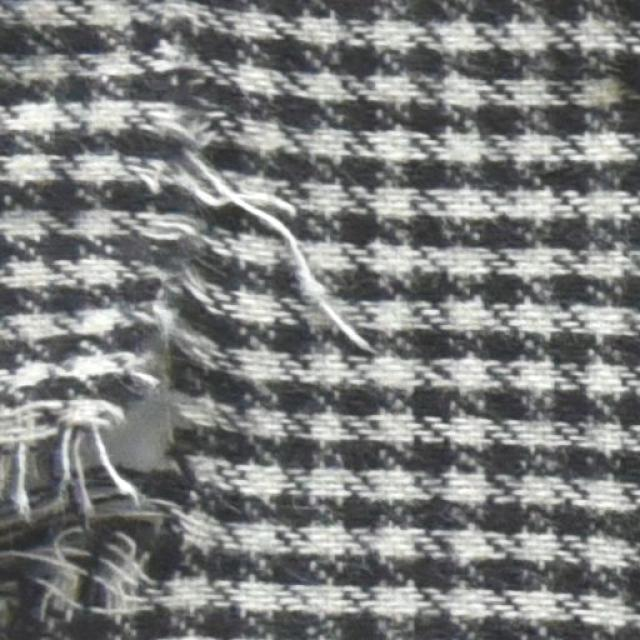Hole: (101, 379, 176, 484)
Snag: (135, 57, 380, 355), (3, 379, 174, 624)
